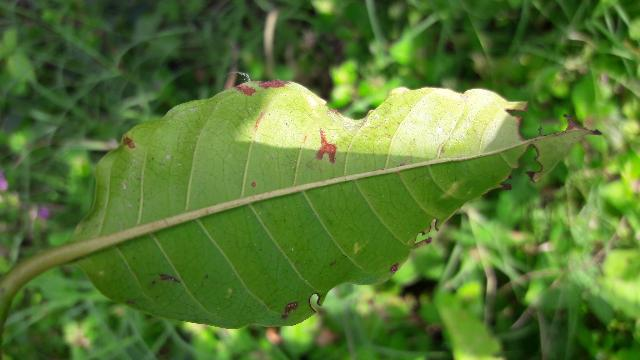red_spider_mite: (69, 78, 600, 329)
